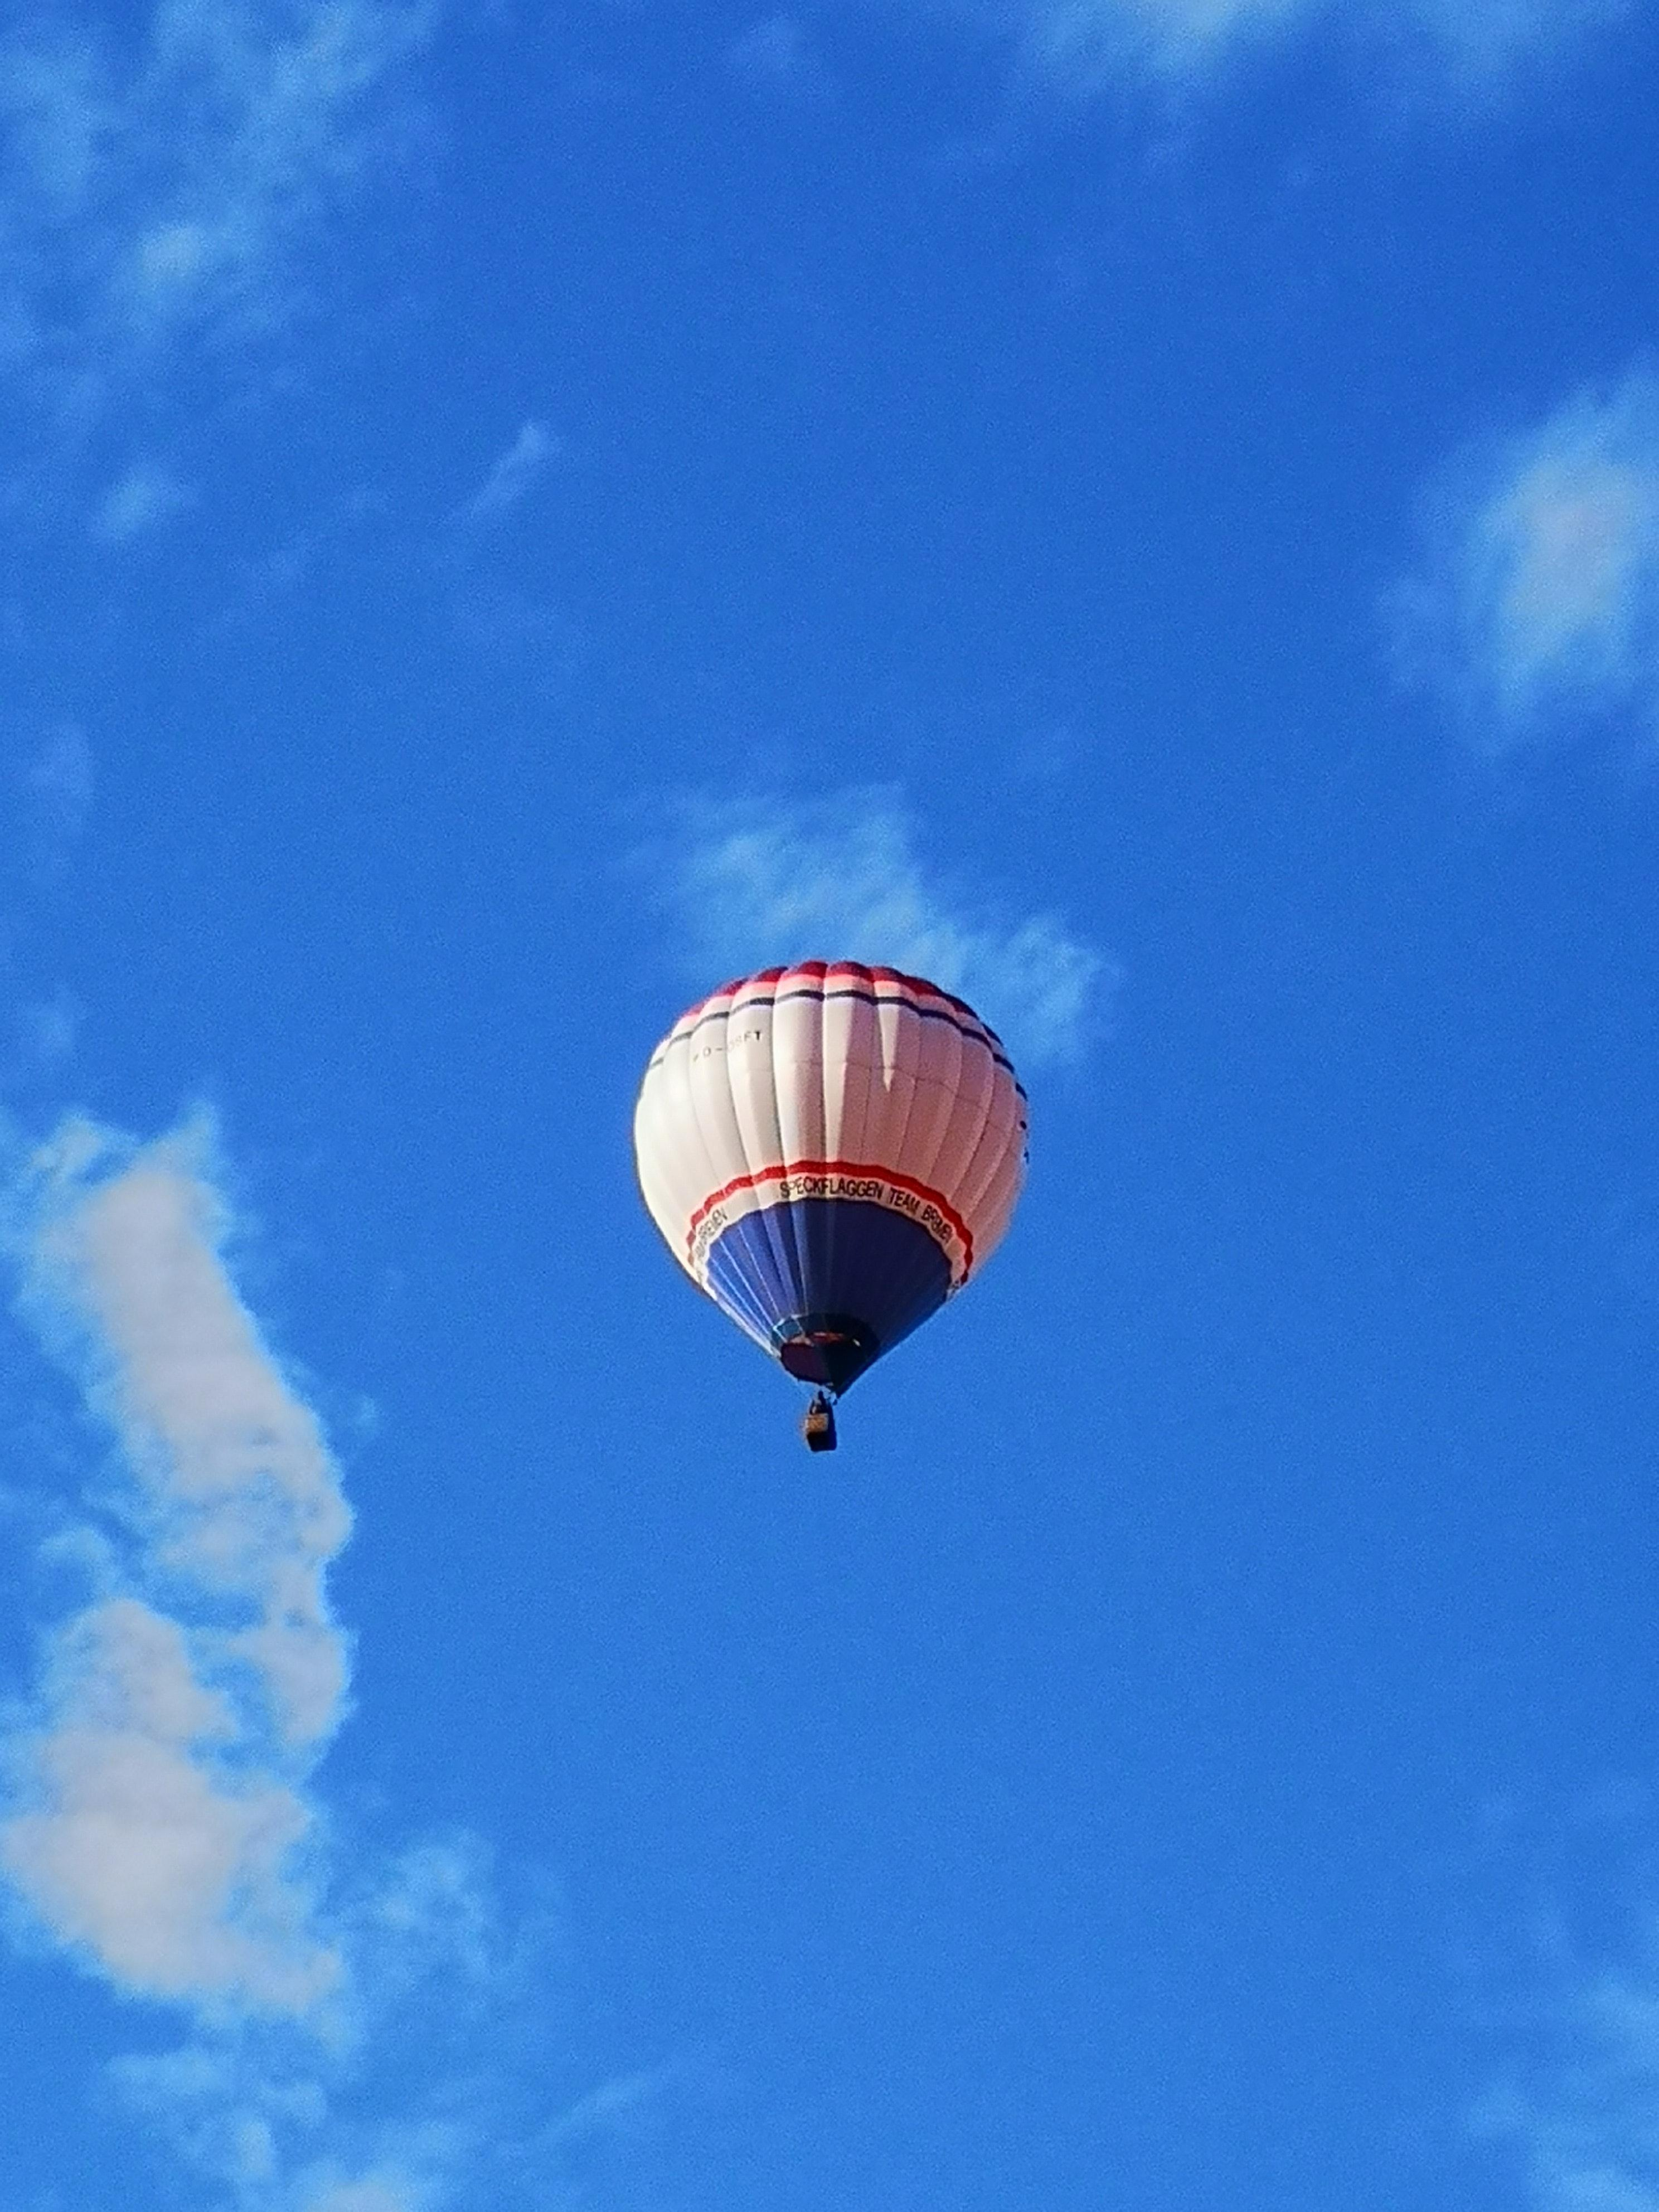hot air ballon: (627, 958, 1032, 1454)
